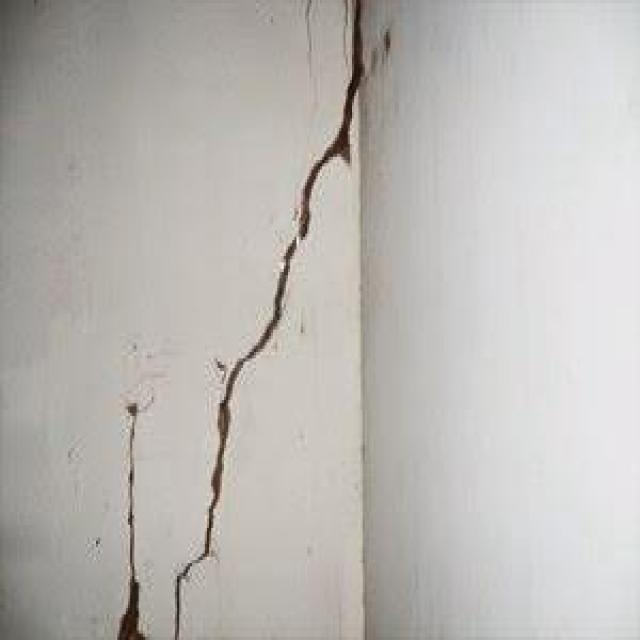crack: (202, 231, 300, 561), (295, 2, 363, 238), (171, 561, 197, 637), (116, 583, 146, 637)
